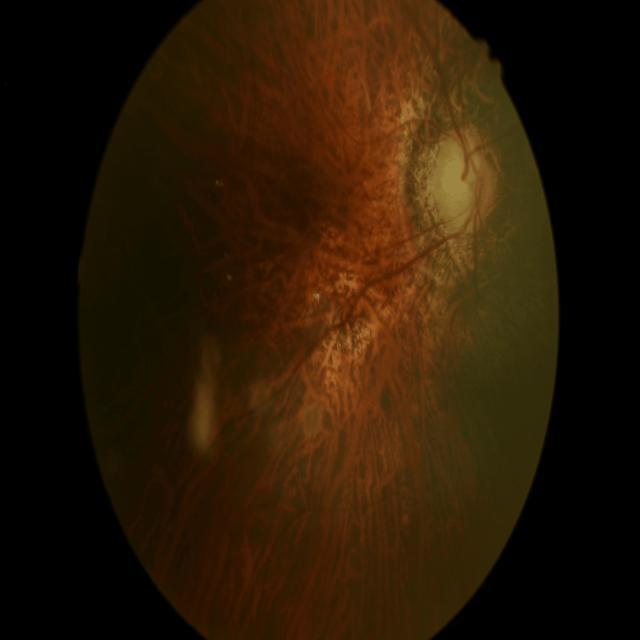cup: (432, 138, 482, 232)
disk: (426, 124, 498, 239)
